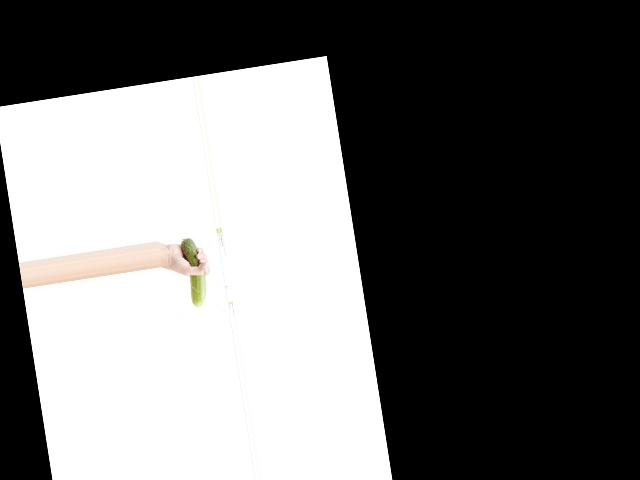cucumber: (180, 237, 210, 308)
